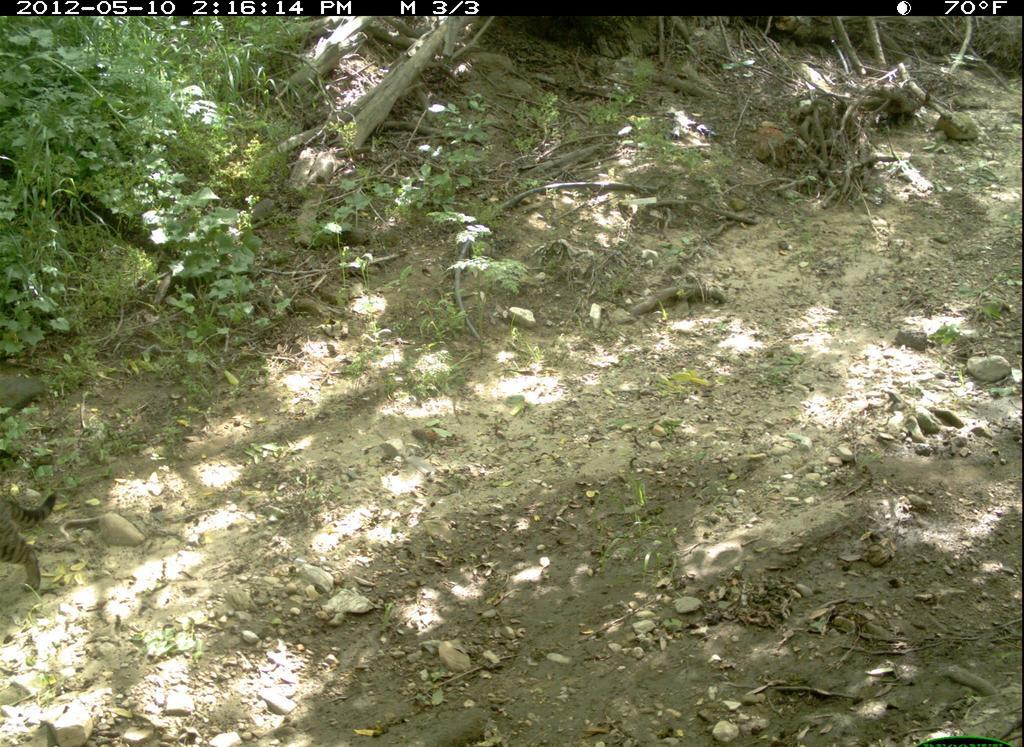cat: (1, 486, 65, 599)
